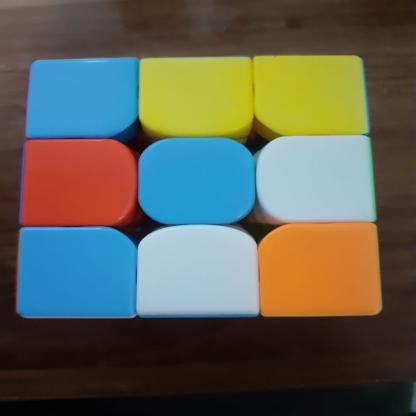cube: (9, 50, 392, 328)
